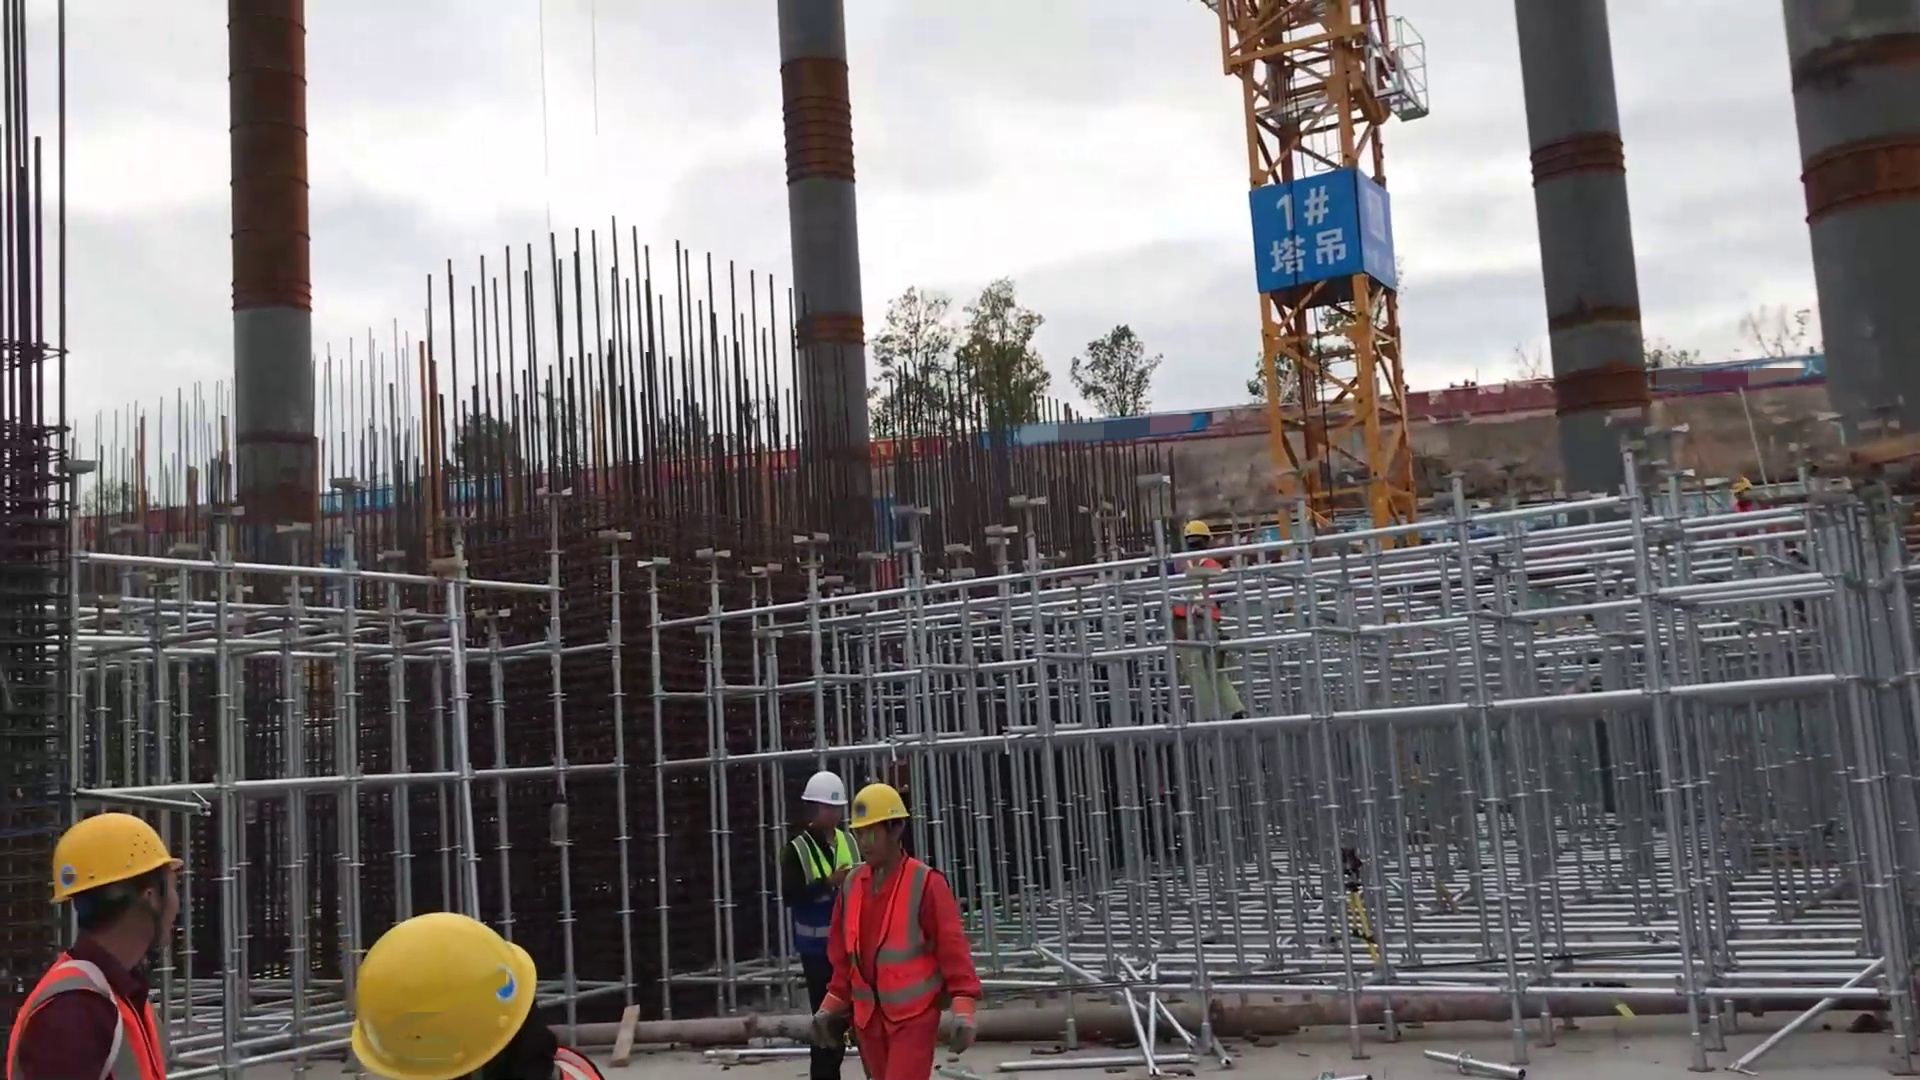helmet: (349, 913, 547, 1078), (40, 809, 184, 904), (846, 783, 913, 832), (798, 772, 849, 805), (1182, 519, 1215, 540)
person: (337, 905, 614, 1080), (817, 779, 977, 1078), (14, 809, 184, 1080), (781, 771, 867, 1080), (1169, 517, 1252, 720)
vest: (837, 855, 963, 1033), (19, 942, 178, 1080), (793, 831, 836, 961)
